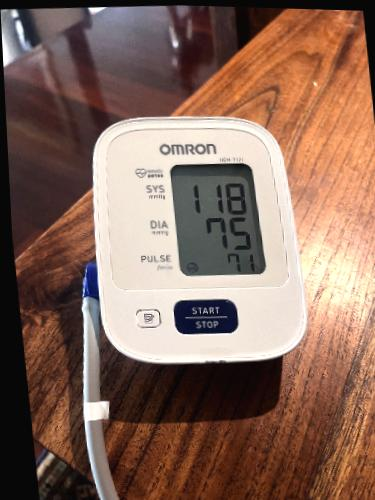bpm: (167, 154, 267, 285)
